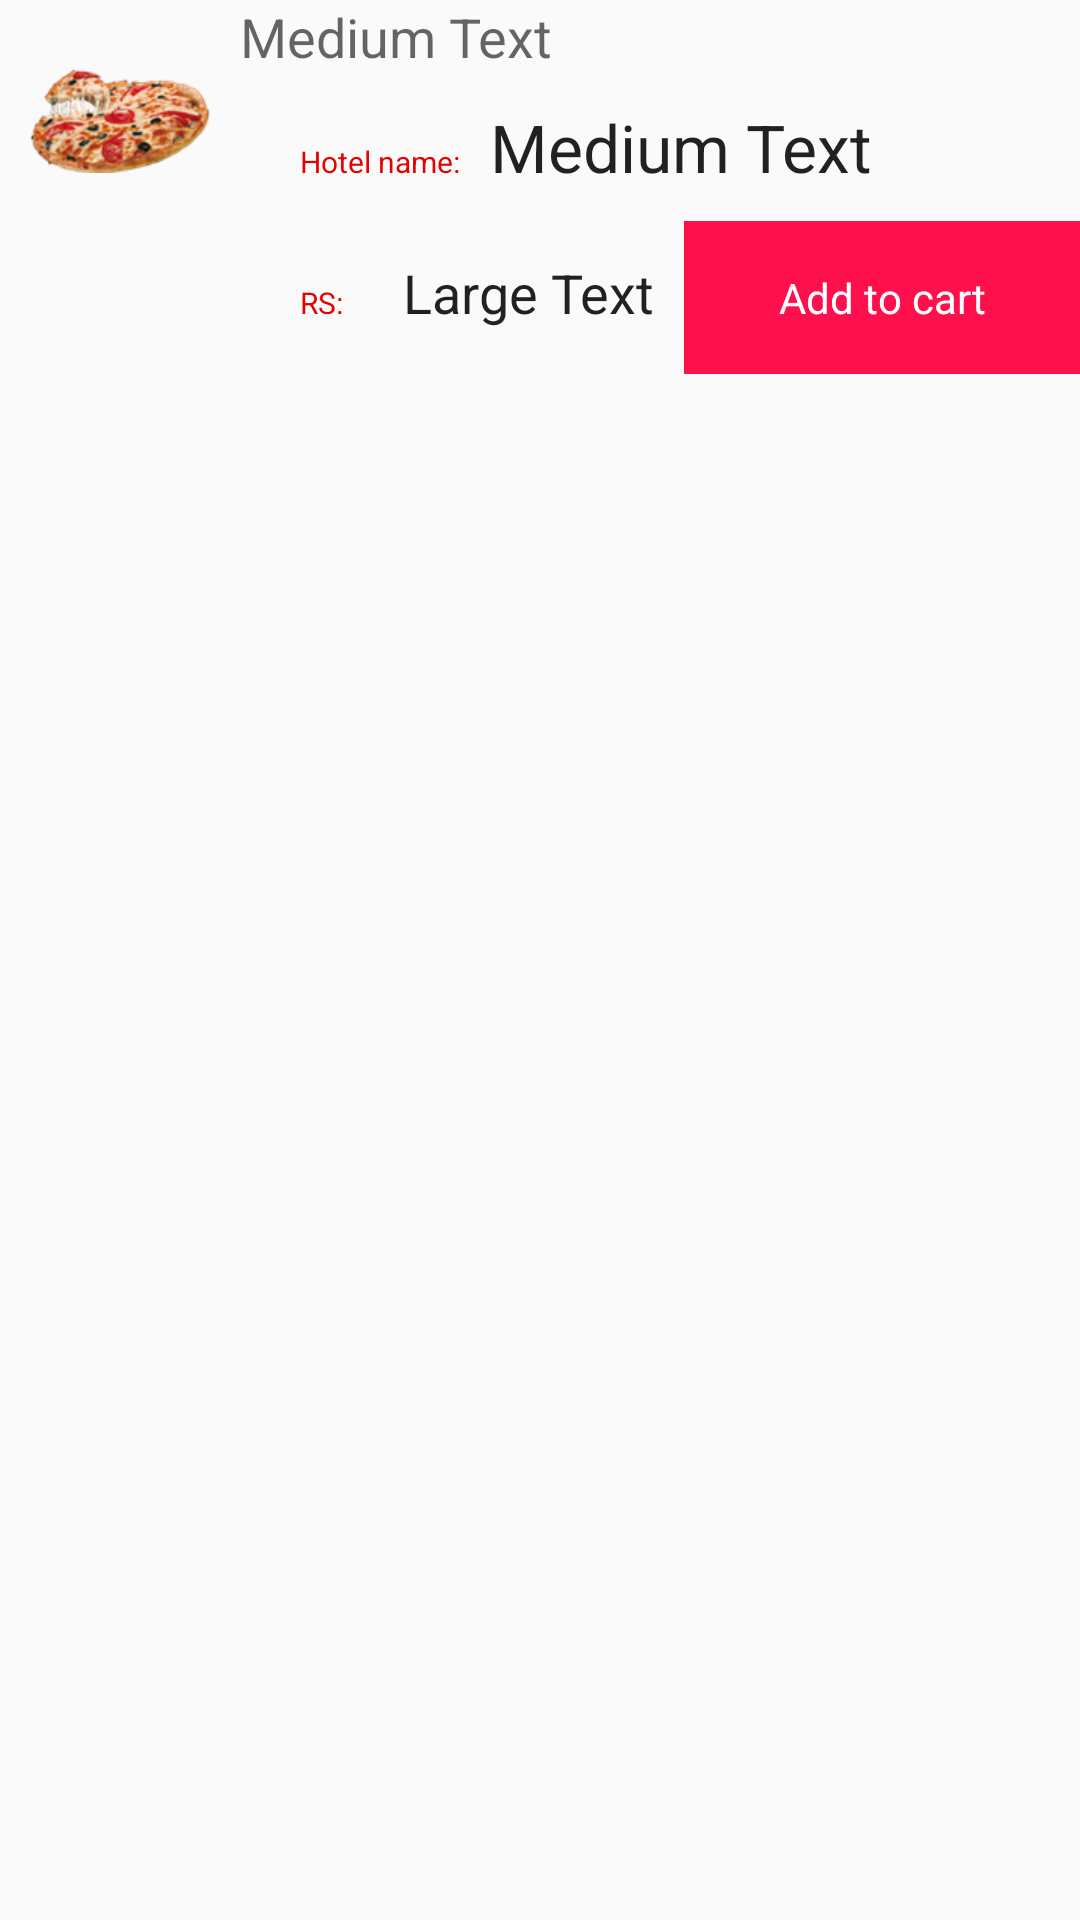

Icons on this 1080 × 1920 Android screen, each with its box as [left=x1, top=y1, right=x2, bottom=y2]:
pizza: [left=30, top=69, right=210, bottom=173]
